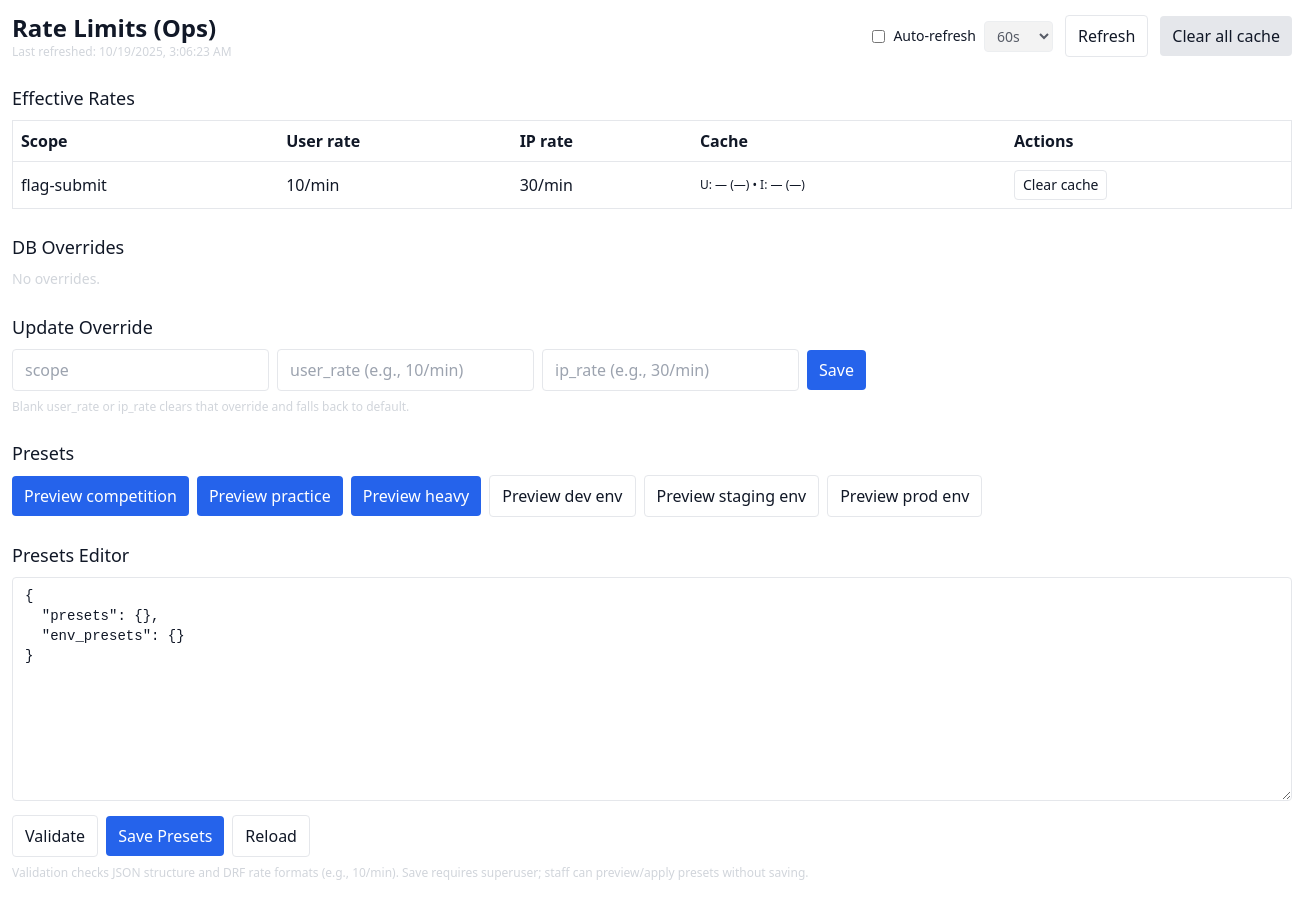
Test: Ops Rate Limits actions › Update Override form posts with CSRF header and shows success
Expected: the heading "Rate Limits (Ops)" is shown, [12,12,232,44]
Fill the Update Override form
Type "flag-submit" into the field with placeholder "scope".
click(140, 370); type("flag-submit")  # box [12,349,269,391]
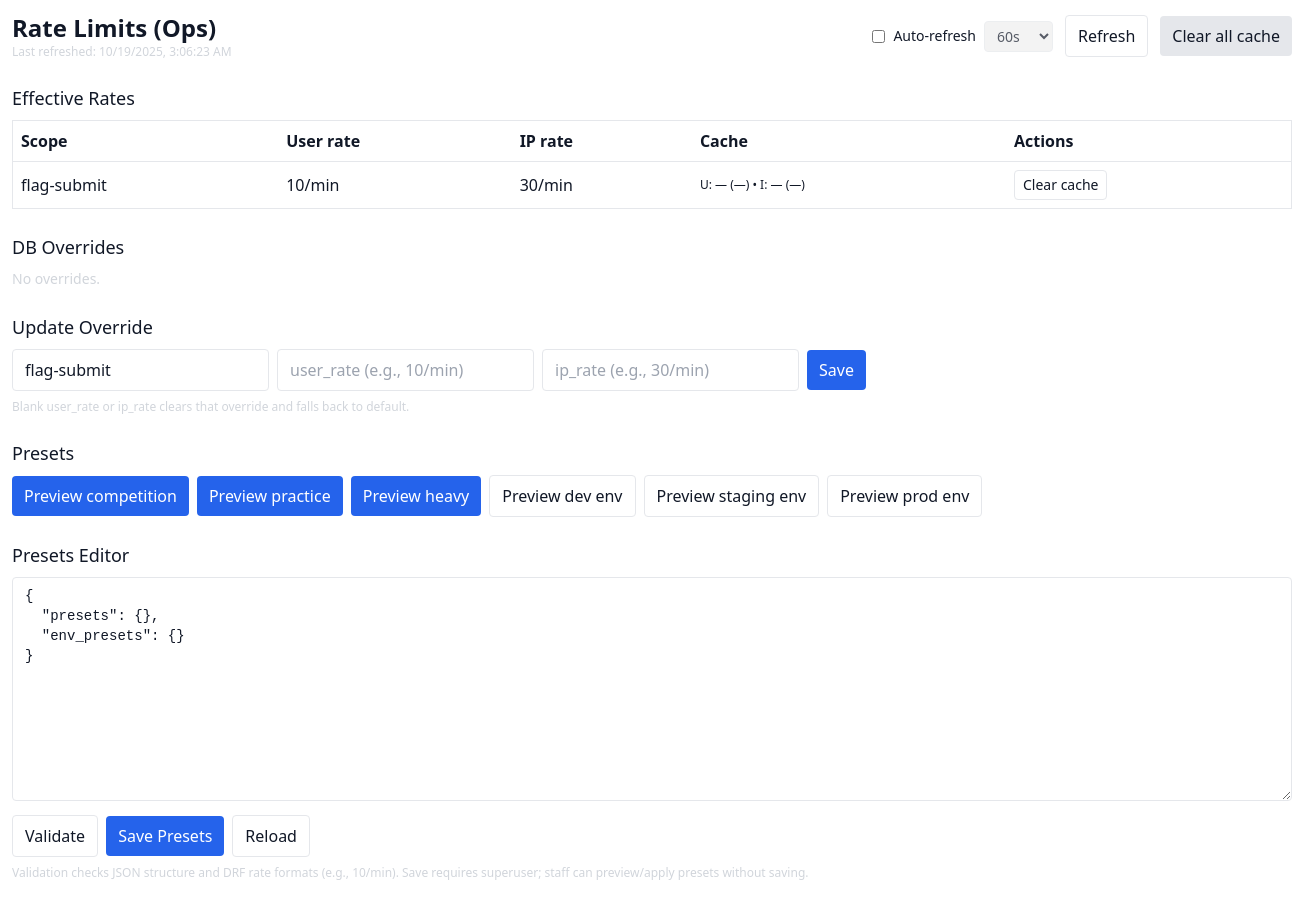
Type "12/min" into the field with placeholder "user_rate (e.g., 10/min)".
click(406, 370); type("12/min")  # box [277,349,534,391]
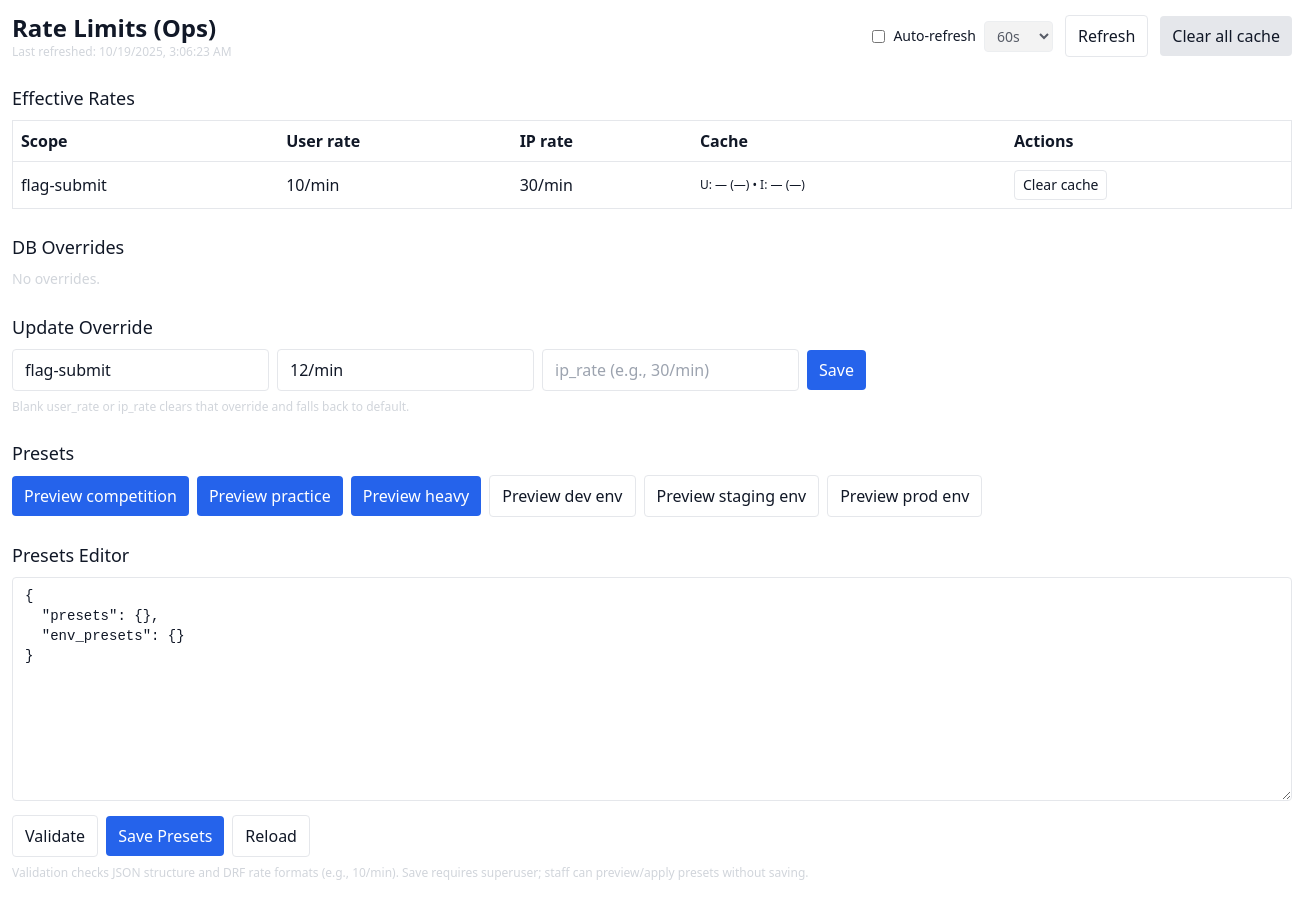
Type "40/min" into the field with placeholder "ip_rate (e.g., 30/min)".
click(670, 370); type("40/min")  # box [542,349,799,391]
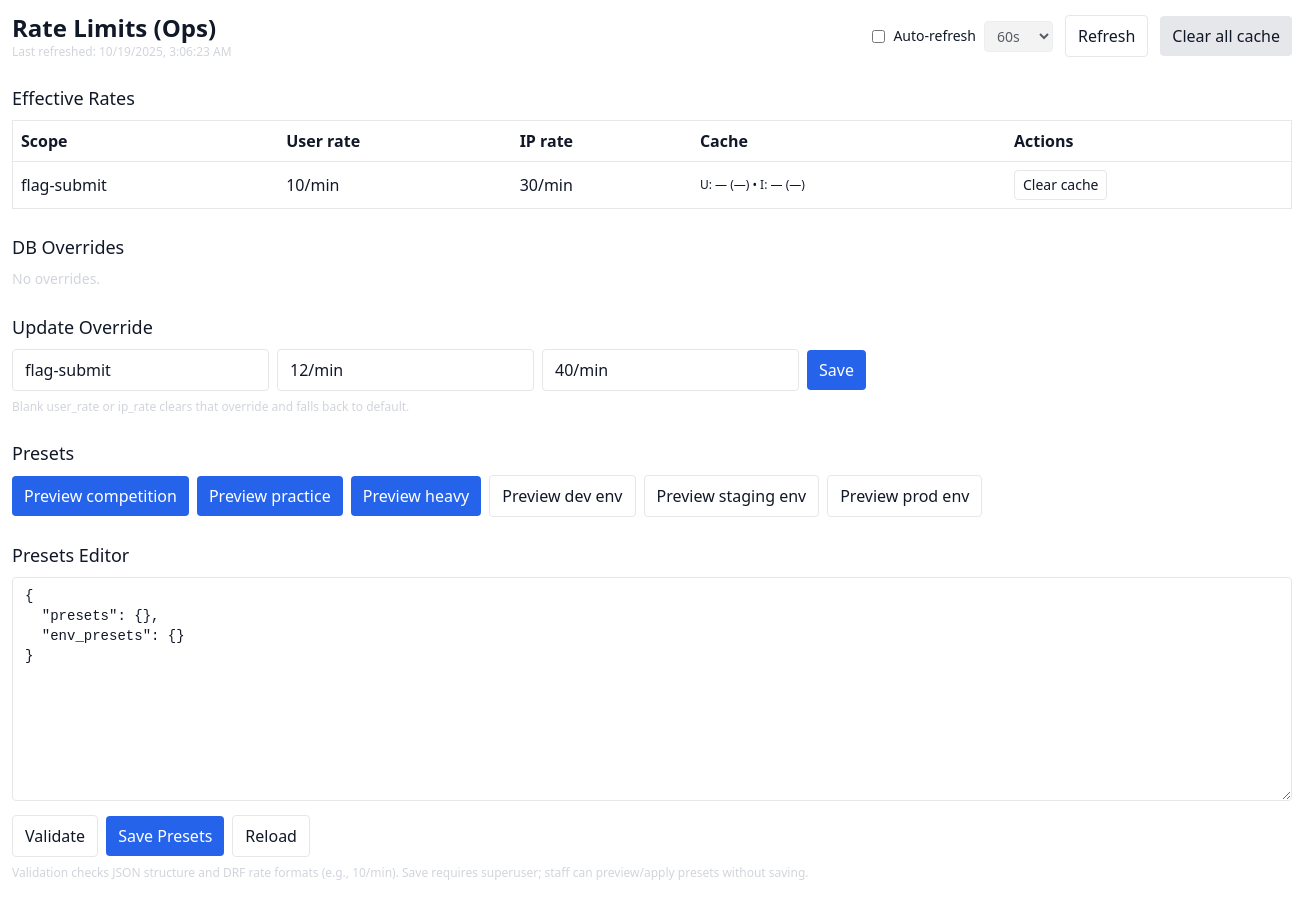
Click the button "Save".
click(836, 370)  # box [807,350,866,390]
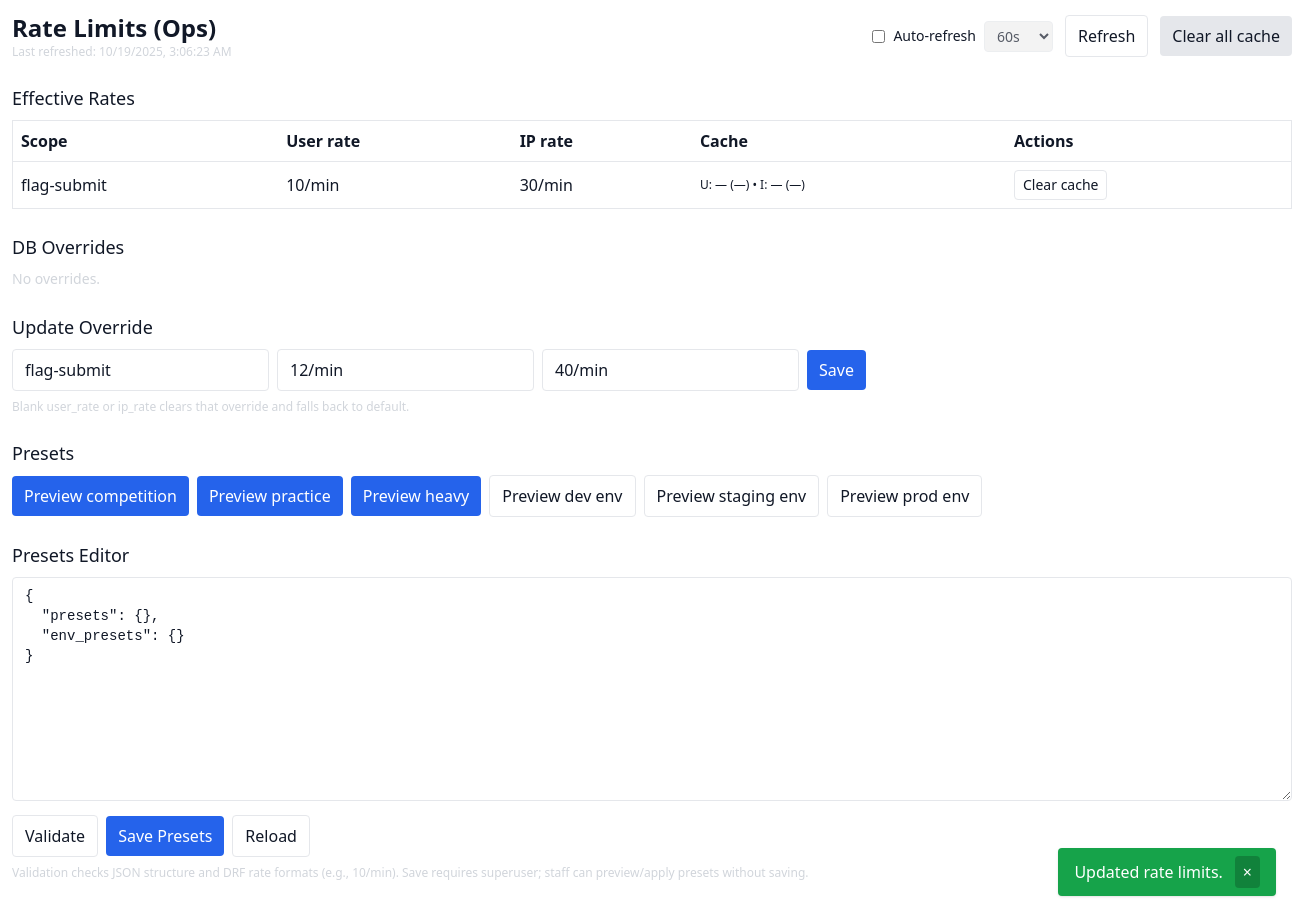
Expected: the cell "flag-submit" is shown, [12,162,278,208]
Expected: the text "Updated rate limits." is shown, [1074,860,1223,884]
